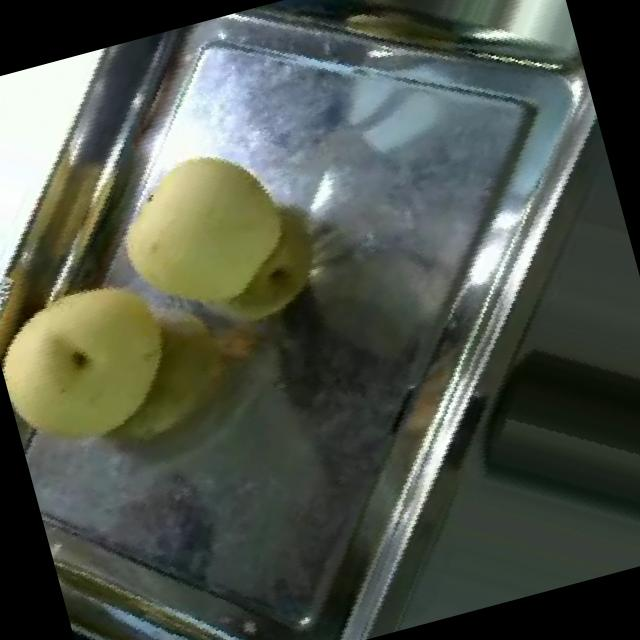Fruit: (77, 110, 336, 376), (0, 237, 219, 489)
